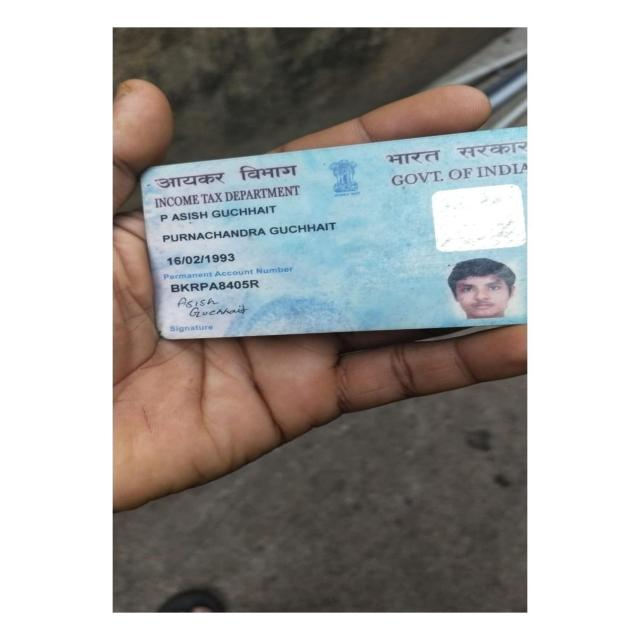pan_card: (141, 124, 530, 336)
